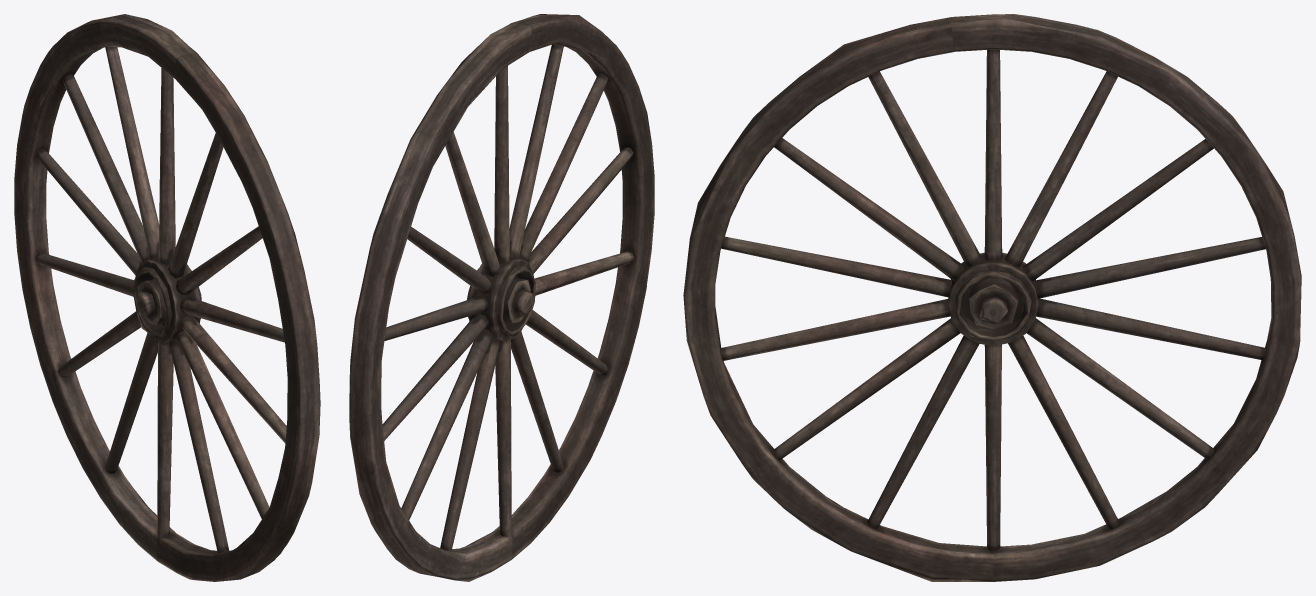
File: SM_Tyre_01.fbx
The picture shows the model from 3 angles, left to right: view 1: azimuth 30°, elevation 25°; view 2: azimuth 150°, elevation 25°; view 3: azimuth 270°, elevation 25°; orthographic projection. The views are drawn at different scales.
Visible parts, largest first — view 1: SM_Tyre_01_LOD0; view 2: SM_Tyre_01_LOD0; view 3: SM_Tyre_01_LOD0.
Part boxes in pixels (x1,y1,x2,y2): SM_Tyre_01_LOD0: [14, 14, 320, 581]; SM_Tyre_01_LOD0: [349, 14, 654, 581]; SM_Tyre_01_LOD0: [683, 14, 1301, 581].
Bounding box in the file's own units: 14.44 × 131 × 131.
1 material, 1 textured.
